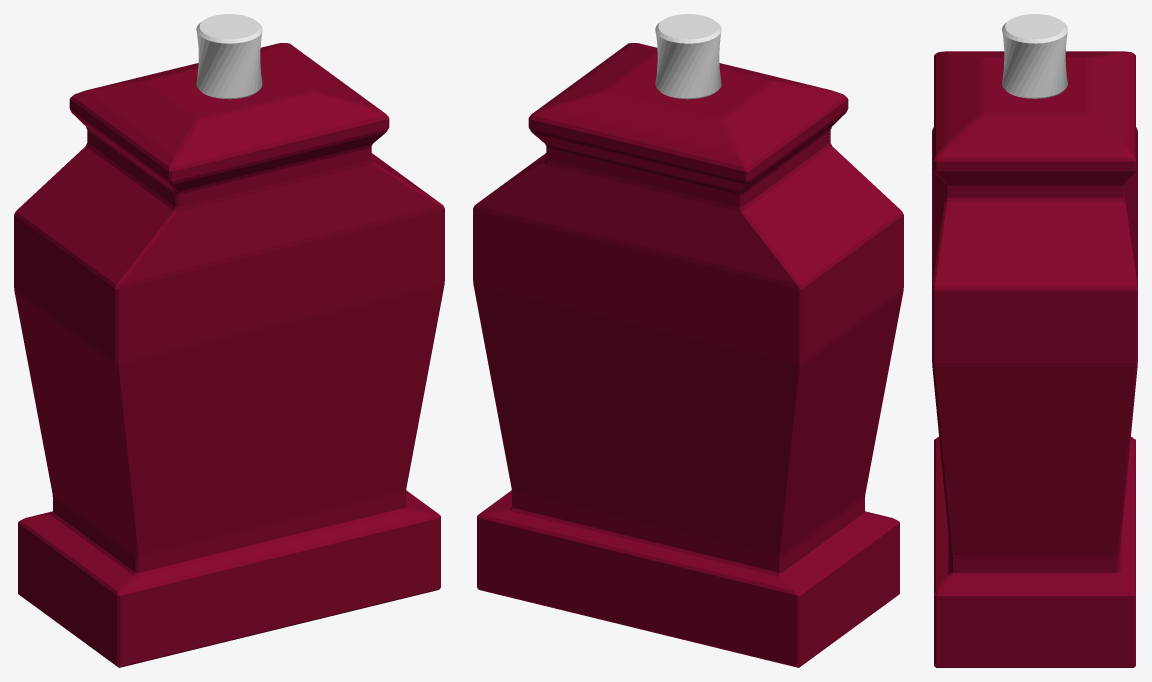
The model's file is ketchup.fbx.
3 views of the same model, side by side, from view 1: azimuth 30°, elevation 25°; view 2: azimuth 150°, elevation 25°; view 3: azimuth 270°, elevation 25° (orthographic).
Parts seen in each view (by area): view 1: bottle, cap; view 2: bottle, cap; view 3: bottle, cap.
Part boxes in pixels (box(x1,y1,x2,y2)): bottle: box(14, 43, 444, 667); cap: box(196, 14, 262, 99); bottle: box(473, 43, 903, 667); cap: box(655, 14, 721, 99); bottle: box(932, 51, 1137, 667); cap: box(1002, 14, 1067, 98).
Size of the model in its own units: 164 by 269 by 89.03.
